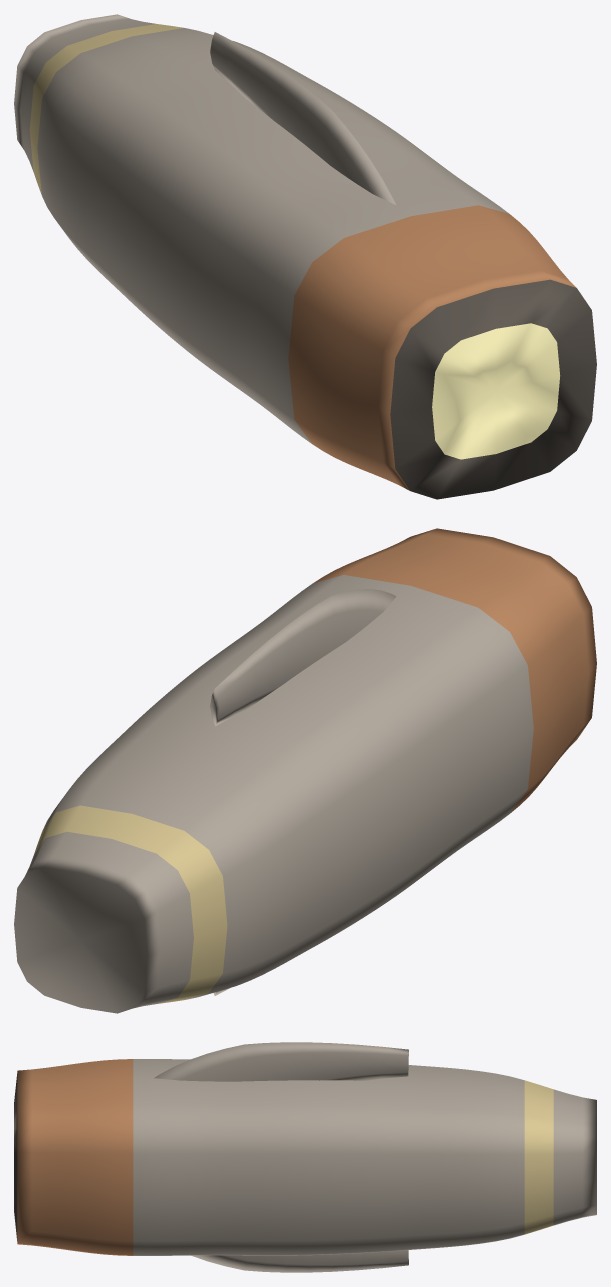
The model's file is tarsine_ca.glb.
3 views of the same model, one above another, from view 1: azimuth 30°, elevation 25°; view 2: azimuth 150°, elevation 25°; view 3: azimuth 270°, elevation 25° (orthographic). The views are drawn at different scales.
Visible parts, largest first — view 1: hull_mesh, limb_0_mesh; view 2: hull_mesh, limb_0_mesh; view 3: hull_mesh, limb_0_mesh, limb_1_mesh.
Part boxes in pixels (x1,y1,x2,y2): hull_mesh: (14, 14, 596, 499); limb_0_mesh: (210, 32, 395, 204); hull_mesh: (14, 528, 596, 1013); limb_0_mesh: (210, 589, 396, 726); hull_mesh: (14, 1059, 596, 1255); limb_0_mesh: (154, 1042, 408, 1081); limb_1_mesh: (191, 1250, 408, 1272).
Size of the model in its own units: 58.44 by 74.57 by 171.
